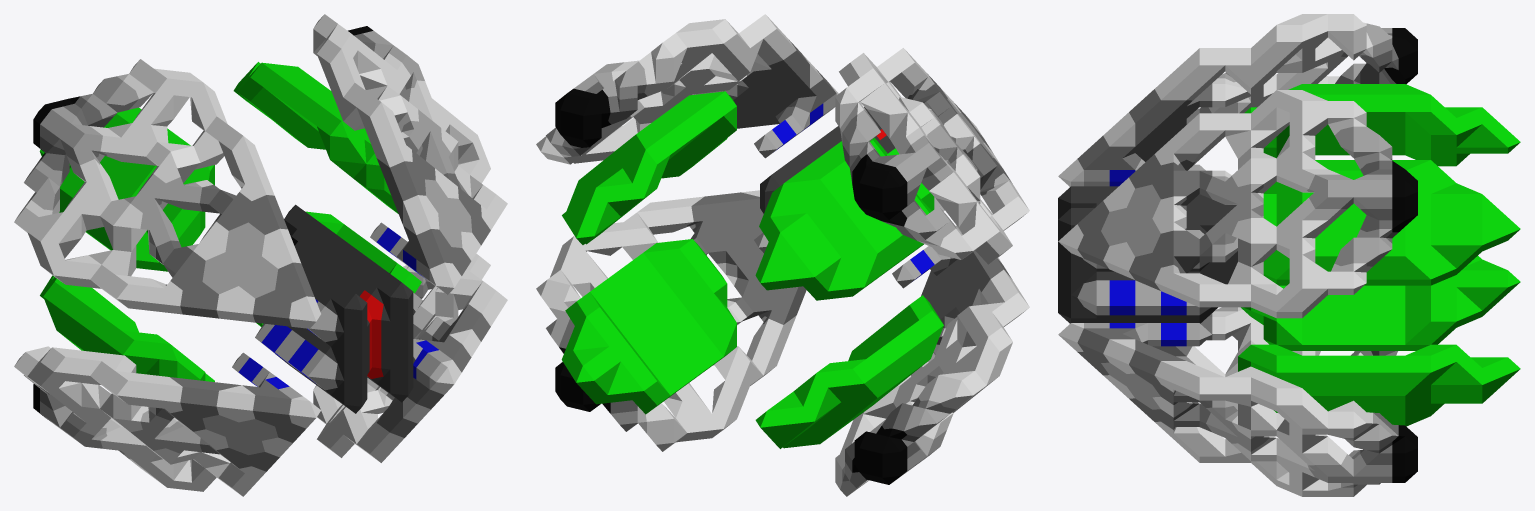
The model's file is ship_auron_fighter_light.fbx.
3 views of the same model, side by side, from view 1: azimuth 30°, elevation 25°; view 2: azimuth 150°, elevation 25°; view 3: azimuth 270°, elevation 25° (orthographic). The views are drawn at different scales.
Visible parts, largest first — view 1: ship_auron_fighter_light; view 2: ship_auron_fighter_light; view 3: ship_auron_fighter_light.
Part boxes in pixels (x1,y1,x2,y2): ship_auron_fighter_light: (14, 14, 507, 496); ship_auron_fighter_light: (536, 14, 1029, 496); ship_auron_fighter_light: (1058, 14, 1520, 496).
Bounding box in the file's own units: 1900 × 1700 × 1800.
